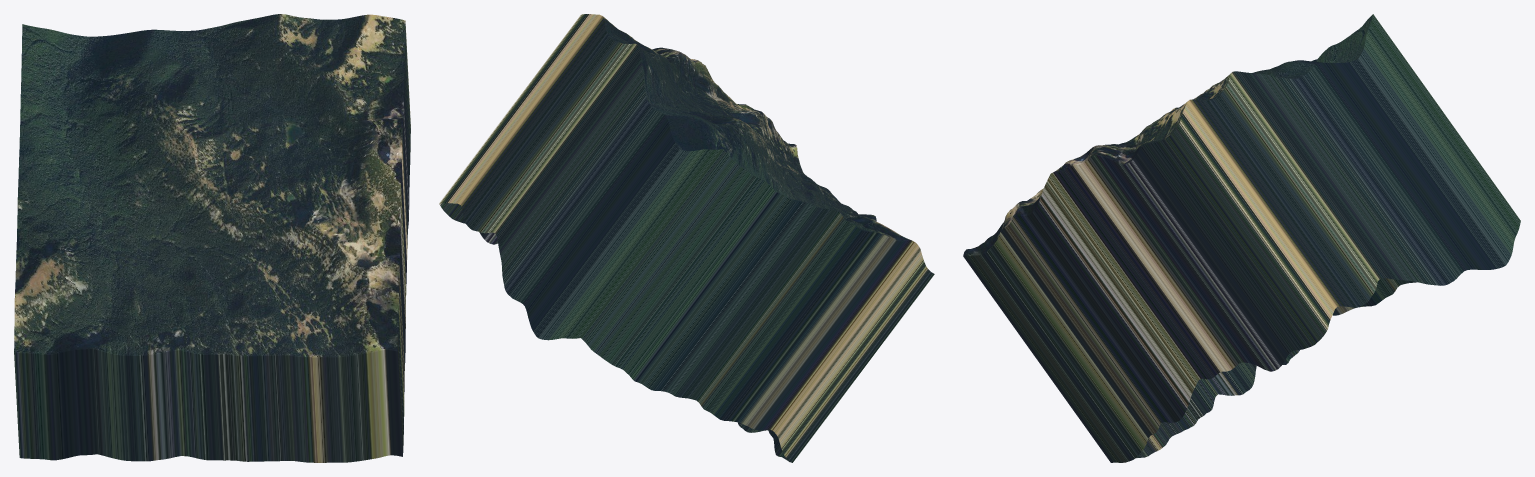
3 views of the same model, side by side, from view 1: azimuth 30°, elevation 25°; view 2: azimuth 150°, elevation 25°; view 3: azimuth 270°, elevation 25° (orthographic). The views are drawn at different scales.
Size of the model in its own units: 6068 by 4943 by 6583.
1 material, 1 textured.
